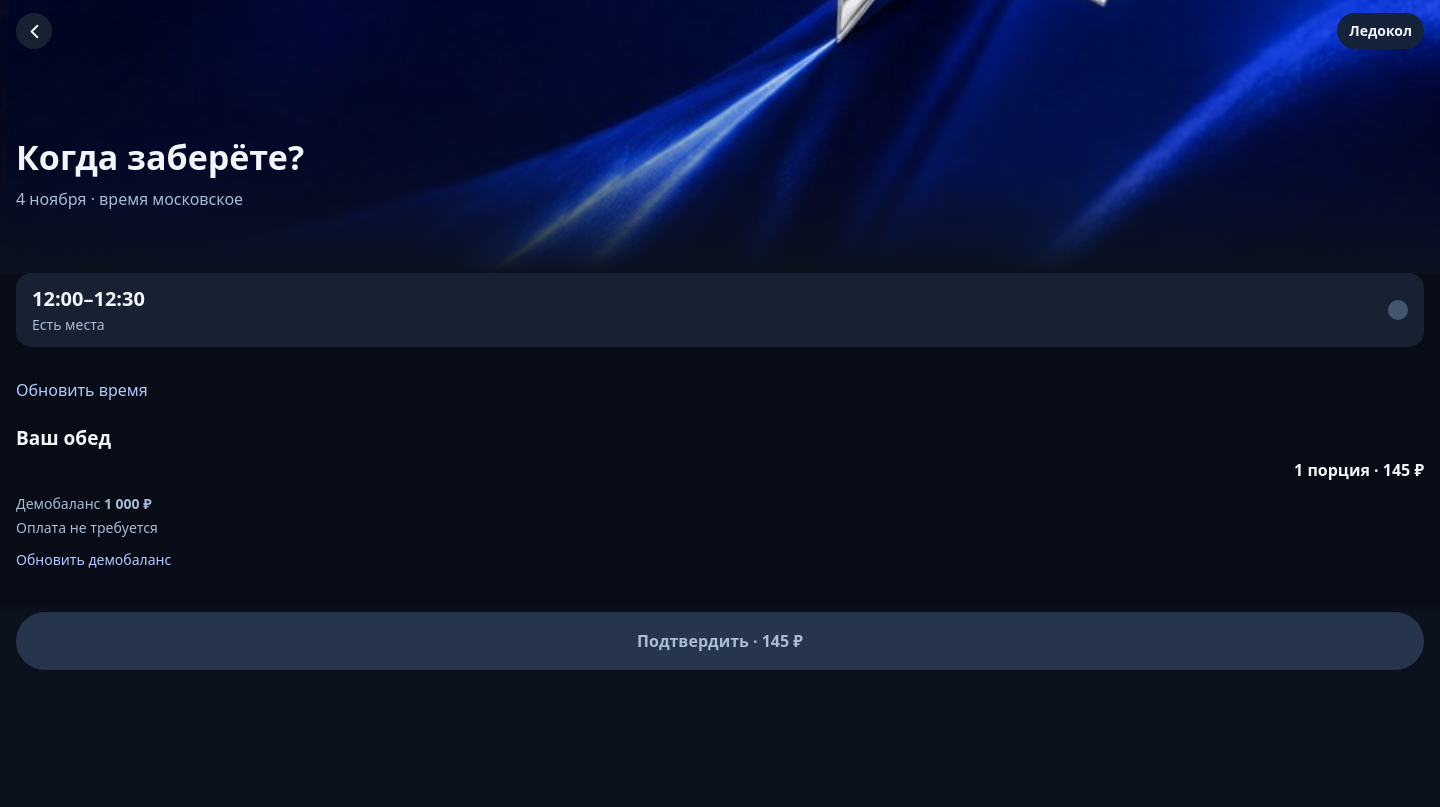
known created order remains visible when local journal cleanup fails
The image size is (1440, 807).
Click the button with aria-label "12:00–12:30 · Есть места" at (88, 298), box [16,273,1424,347]
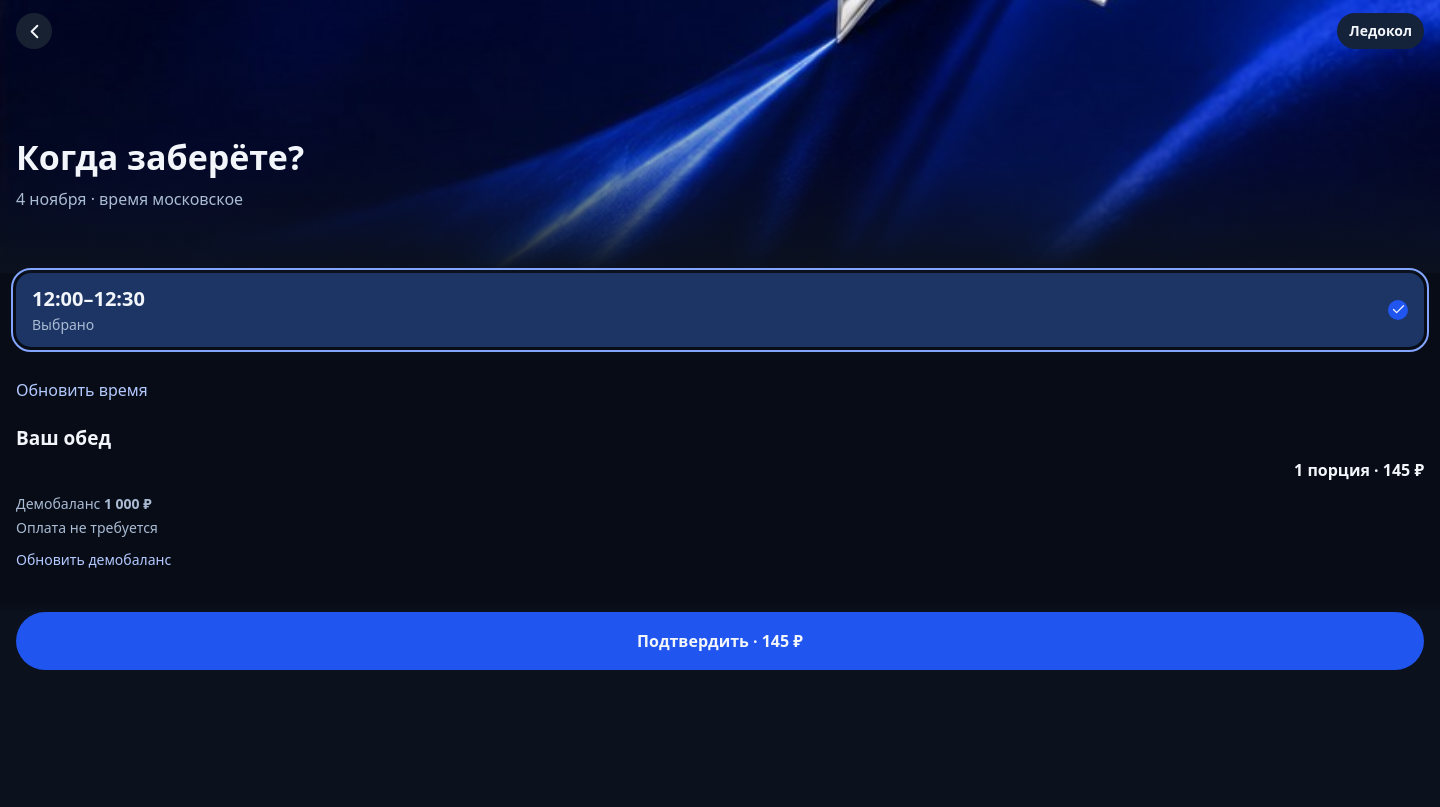
Click the button "Подтвердить · 145 ₽" at (720, 641), box [16,612,1424,670]
(page scrolled)
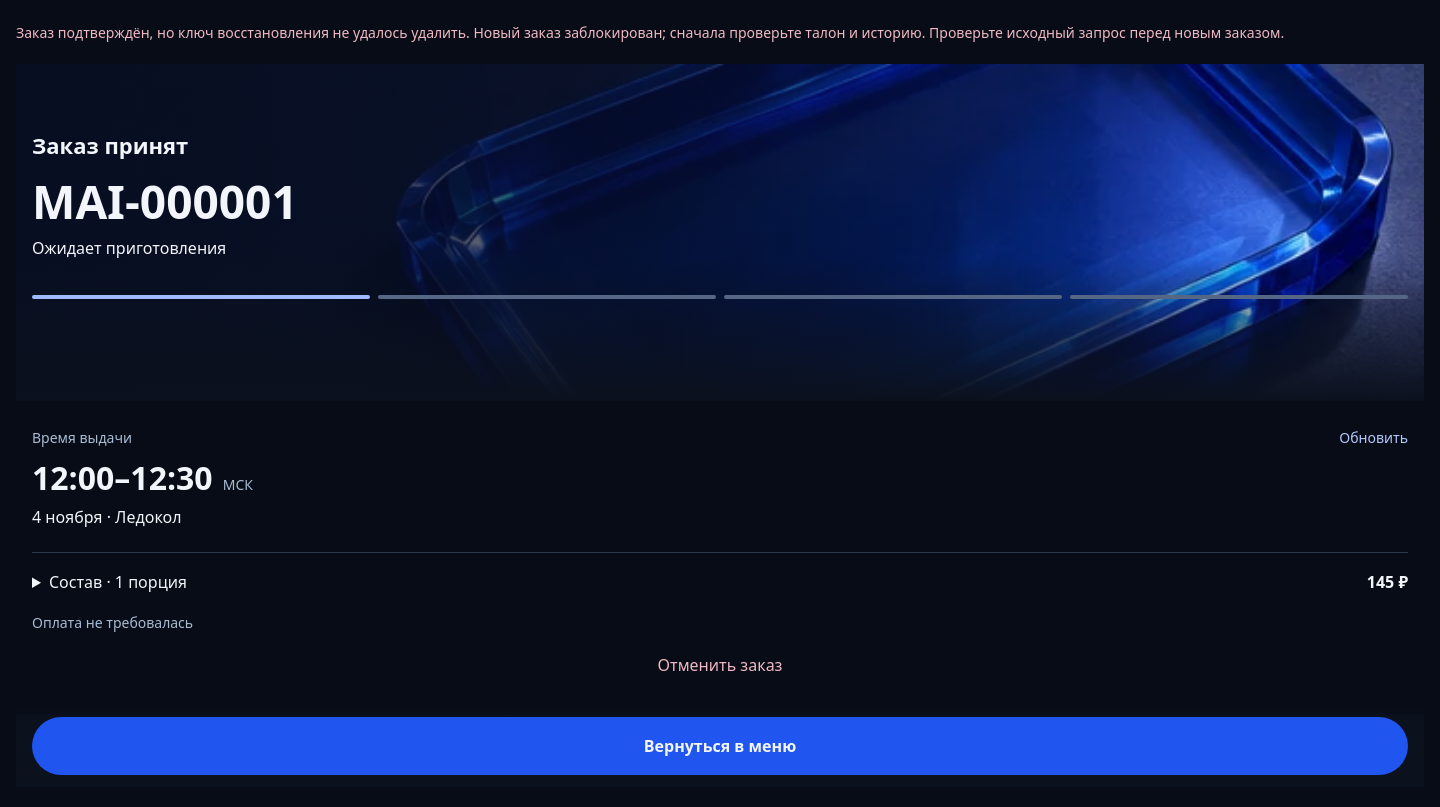
Expected: the text "Заказ подтверждён, но ключ восстановления не удалось удалить" is shown, [16,23,925,42]
Expected: the element named "Талон заказа" is shown
Expected: the button "Подтвердить ·" is gone
